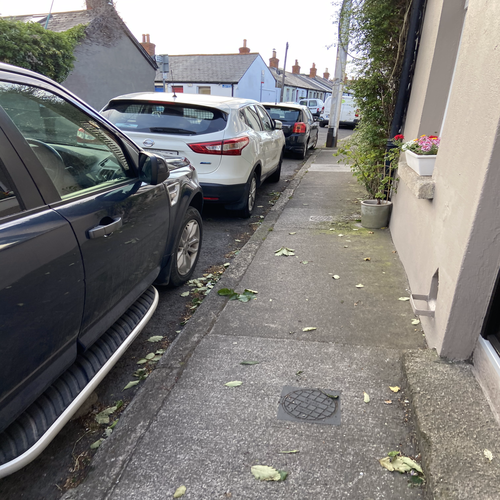Car: (1, 56, 206, 321), (117, 84, 284, 207)
